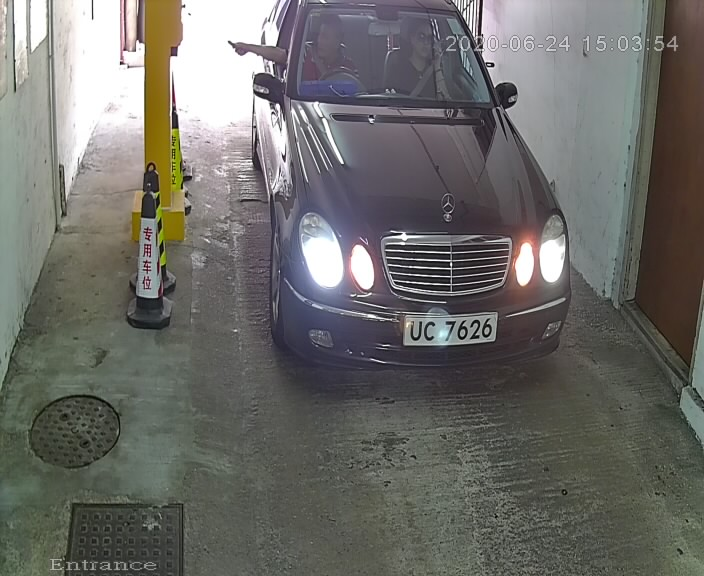Car: (210, 1, 592, 396)
License Plate: (400, 309, 501, 349)
